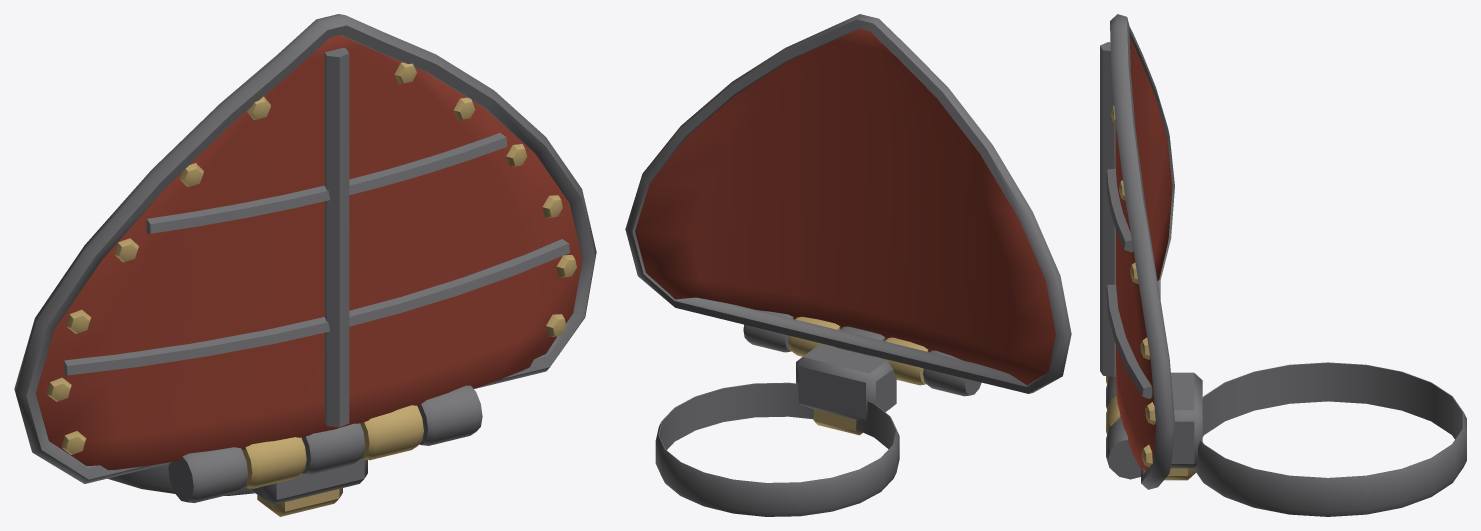
Rendered from Kit_Mod_Sail.glb.
The picture shows the model from 3 angles, left to right: view 1: azimuth 30°, elevation 25°; view 2: azimuth 150°, elevation 25°; view 3: azimuth 270°, elevation 25°; orthographic projection. The views are drawn at different scales.
Parts seen in each view (by area): view 1: Kit_Mod_Sail; view 2: Kit_Mod_Sail; view 3: Kit_Mod_Sail.
Boxes of the visible parts, <box> form: Kit_Mod_Sail: <box>14,14,596,516</box>; Kit_Mod_Sail: <box>625,14,1071,516</box>; Kit_Mod_Sail: <box>1100,14,1466,516</box>.
Bounding box in the file's own units: 0.2775 × 0.2332 × 0.1726.
